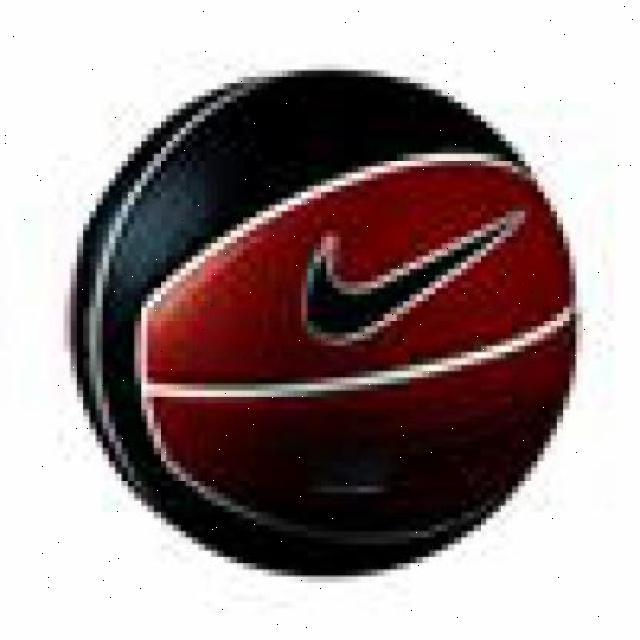ball: (70, 67, 588, 578)
